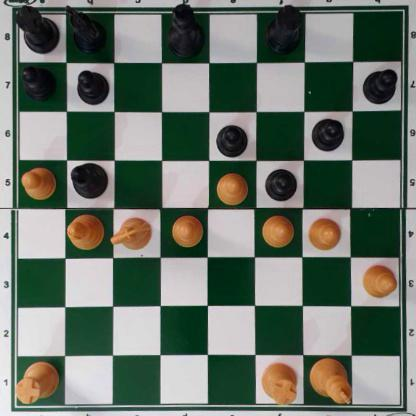black-bishop: (71, 161, 108, 199)
black-king: (166, 4, 207, 59)
black-knight: (65, 6, 106, 51)
black-pawn: (19, 62, 56, 100), (362, 67, 398, 104), (264, 166, 298, 201), (215, 121, 249, 156), (76, 67, 108, 104), (311, 116, 344, 151)
black-rook: (14, 1, 60, 53), (264, 4, 303, 53)
white-bishop: (67, 213, 104, 249)
white-king: (309, 356, 352, 406)
white-knight: (112, 215, 152, 252)
white-pawn: (360, 263, 397, 299), (307, 215, 341, 251), (213, 171, 249, 204), (21, 166, 57, 199), (261, 213, 294, 247), (170, 215, 203, 247)
white-rook: (14, 360, 60, 403), (261, 363, 298, 404)
